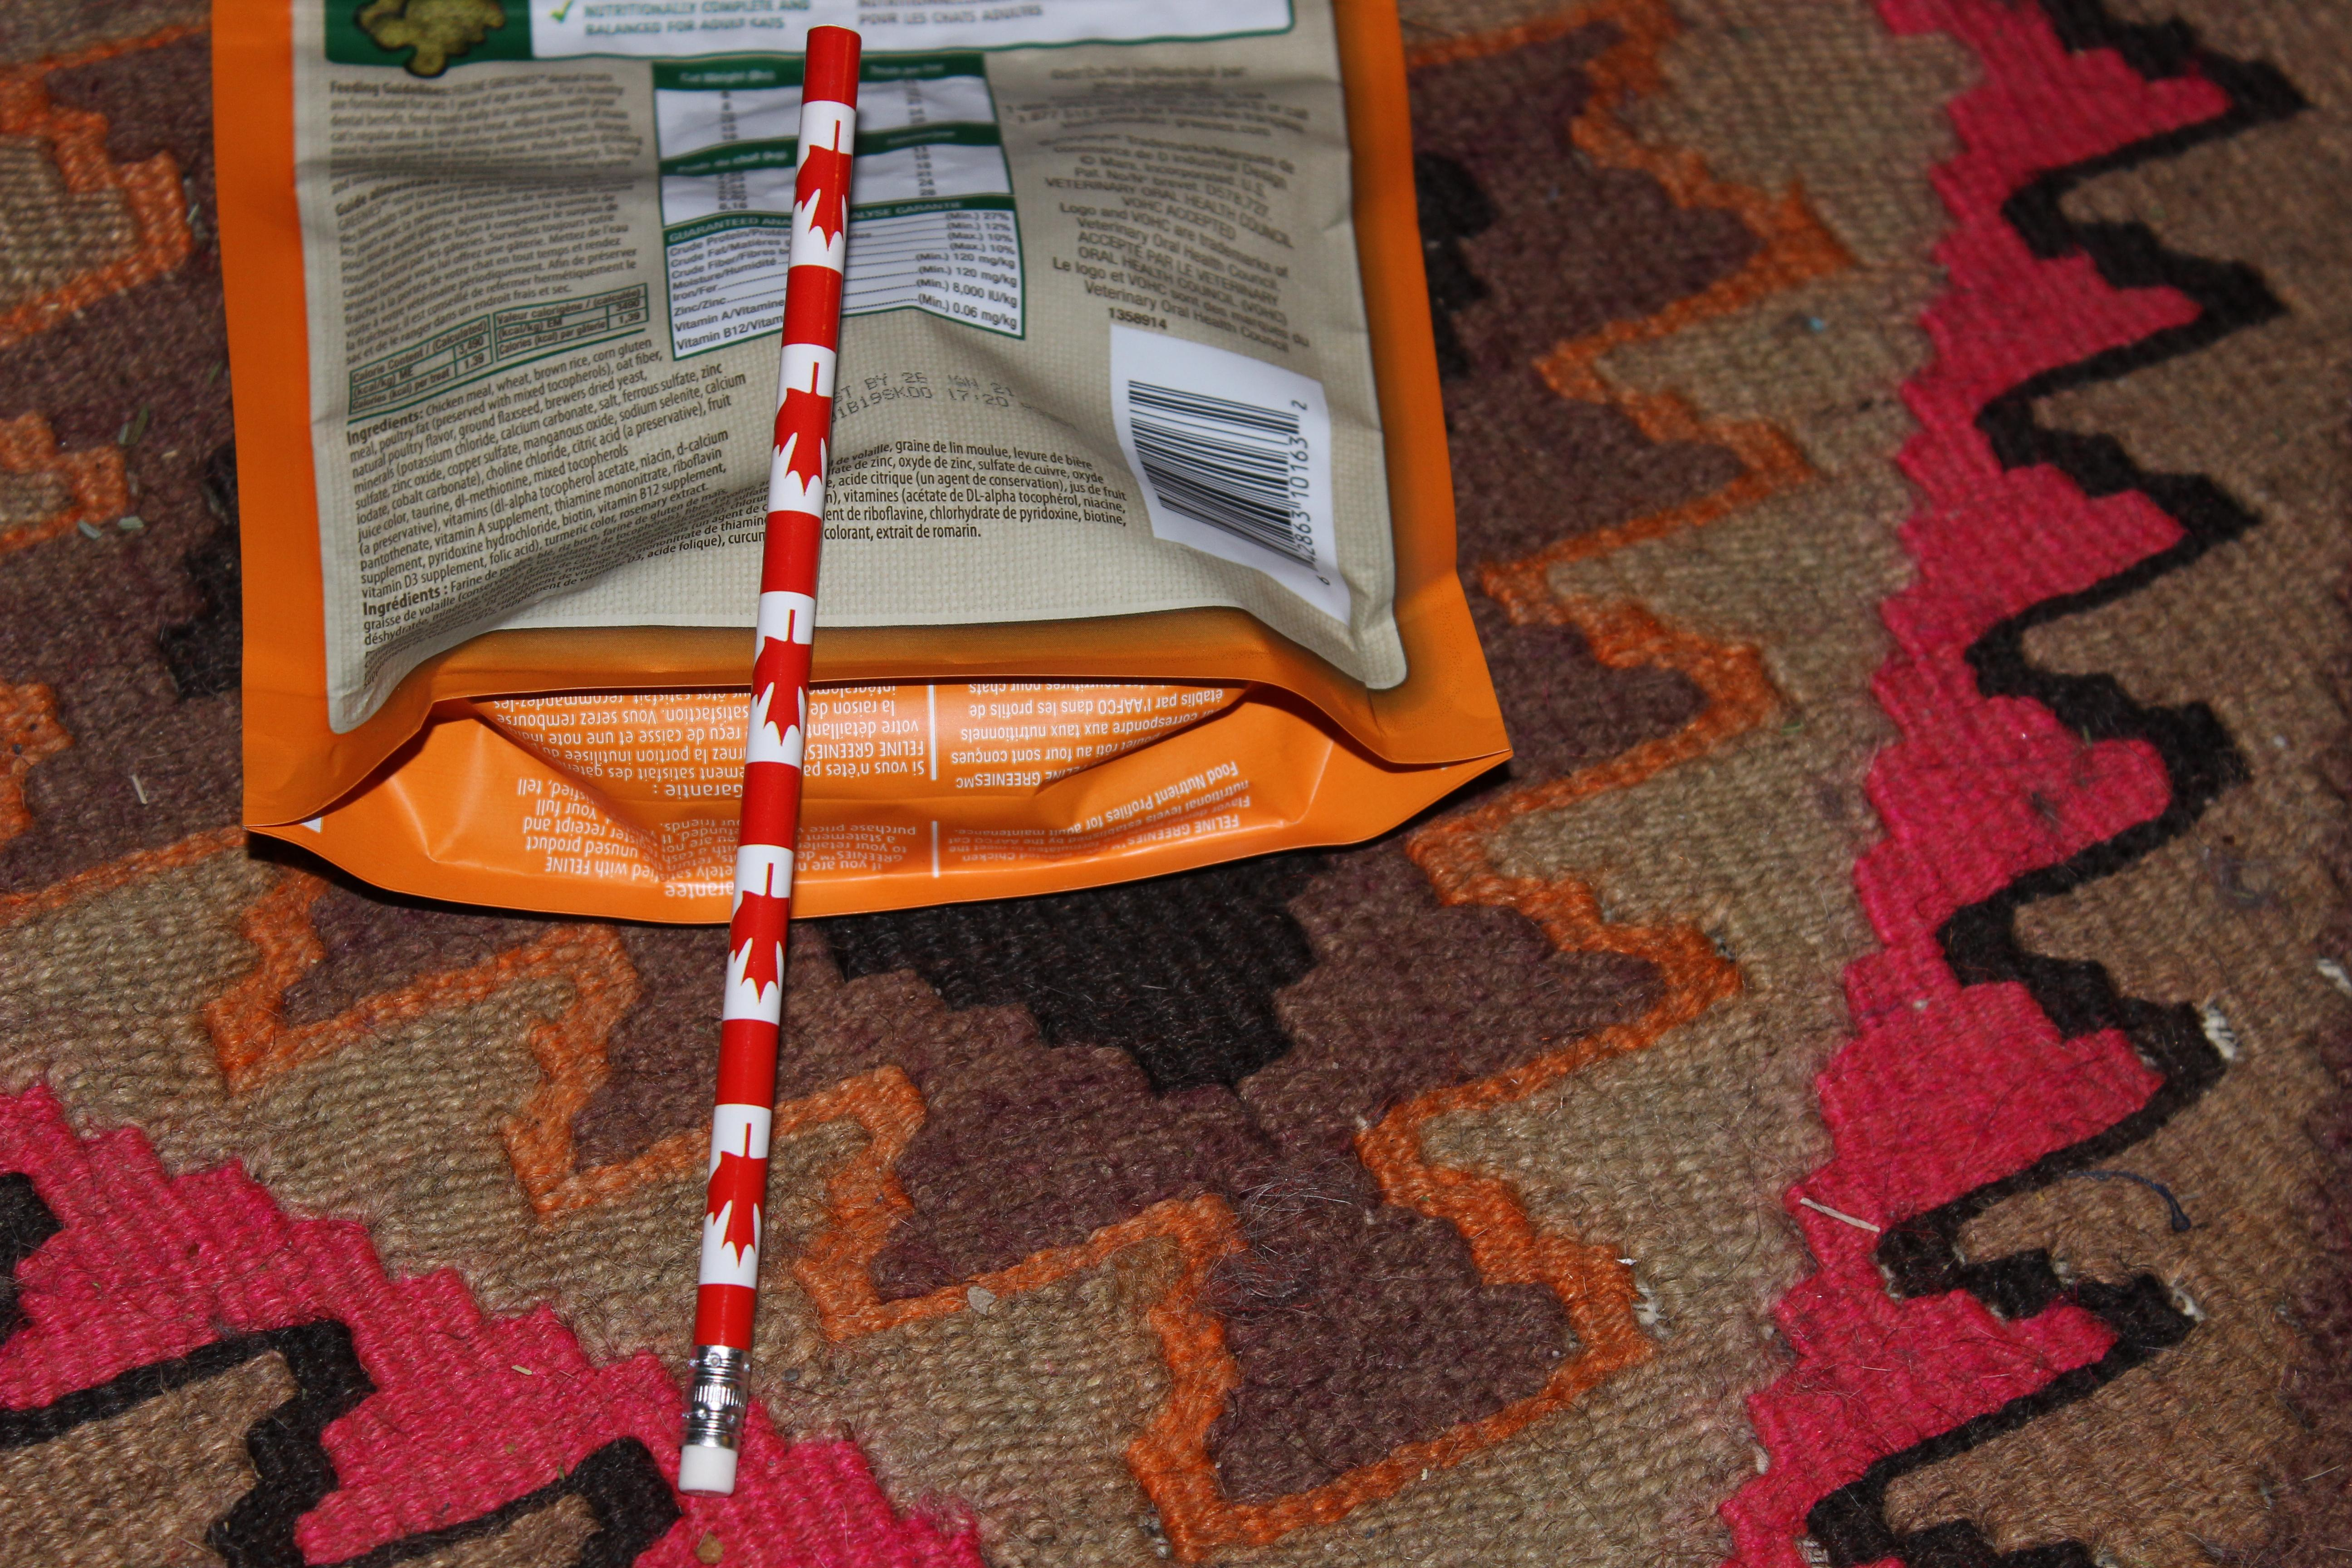canadaPencil: (633, 10, 905, 1524)
